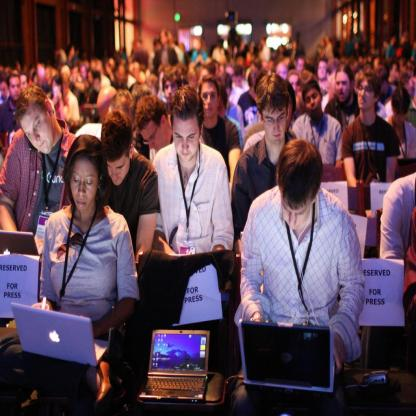board: (238, 320, 335, 392), (10, 304, 110, 370), (142, 324, 215, 406), (0, 230, 39, 255)
